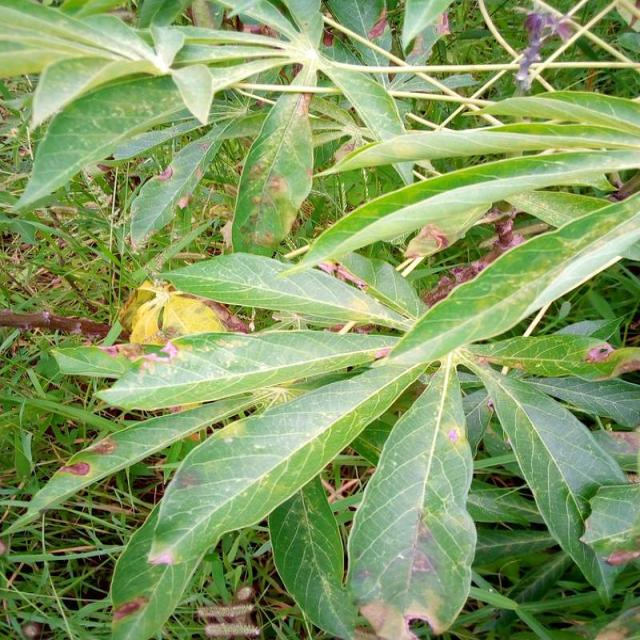cassava leaf: (3, 1, 638, 638), (344, 359, 478, 637)
